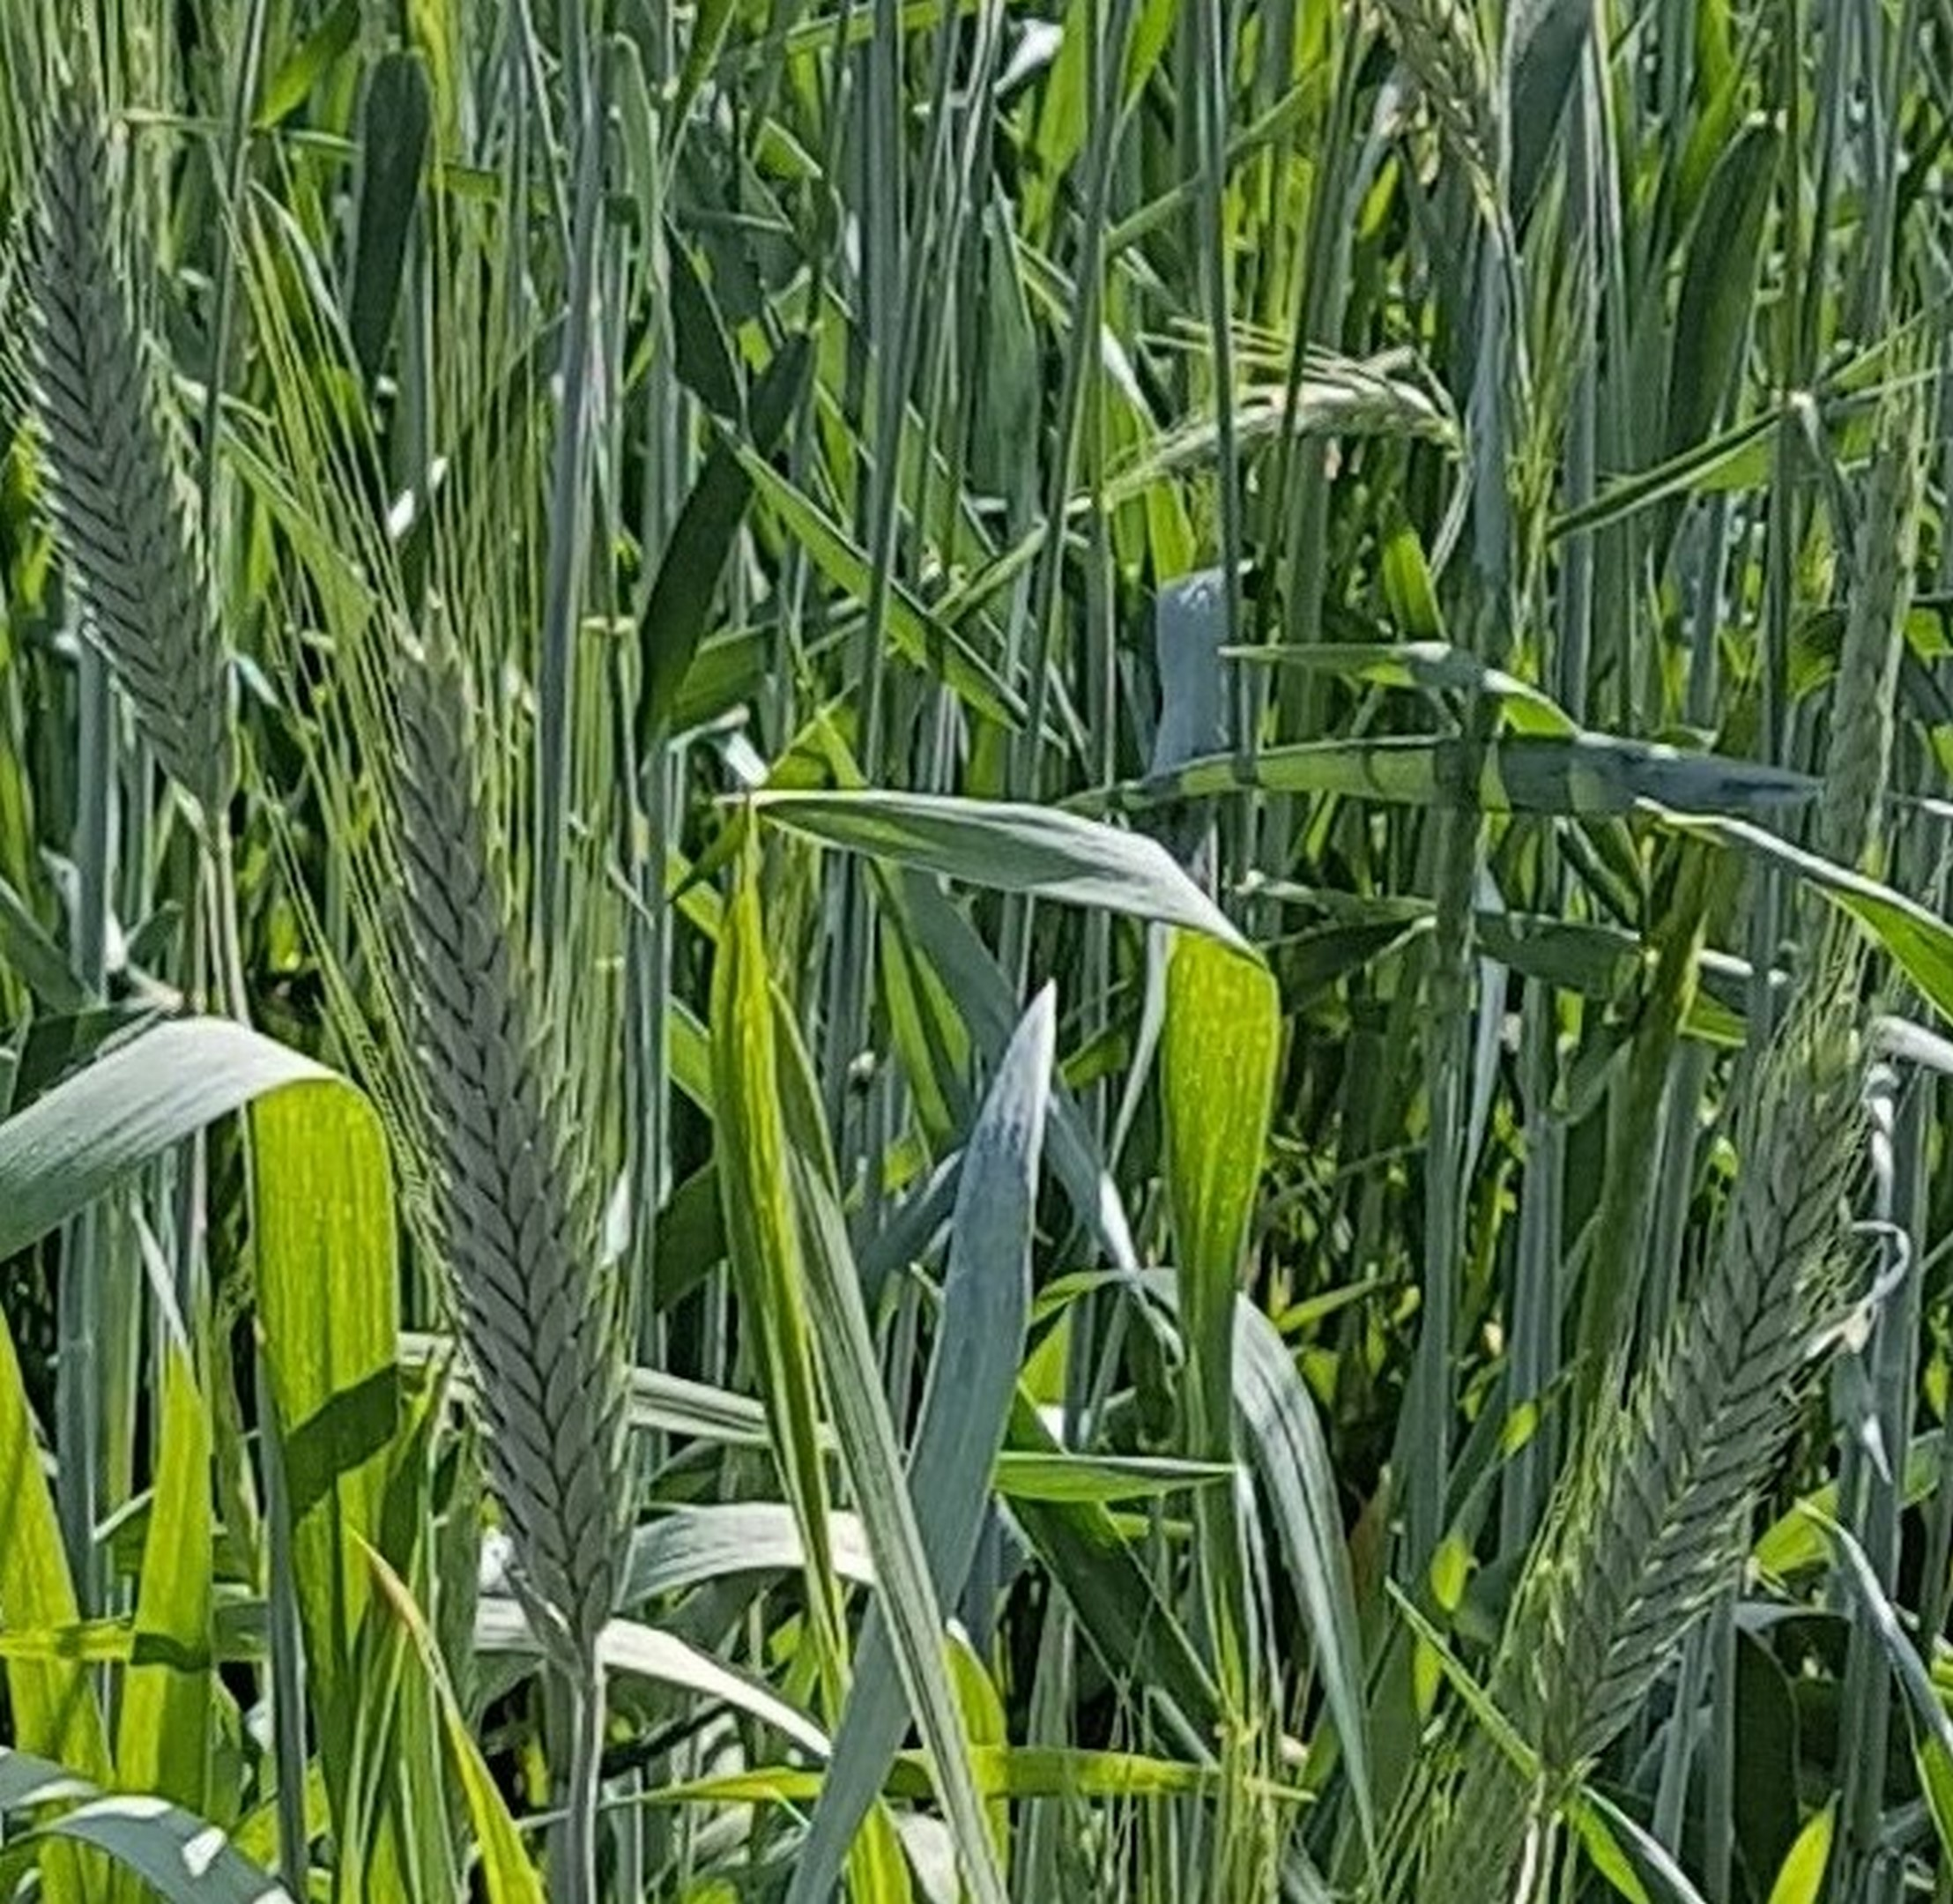Healthy Wheat: (359, 633, 673, 1597), (1529, 997, 1909, 1785), (16, 61, 258, 809)
